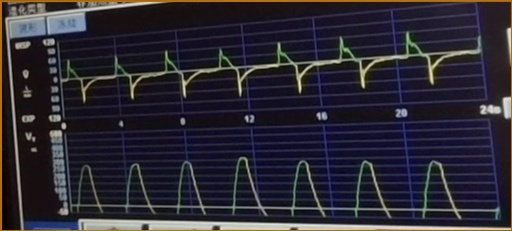Accumulation Flow: (63, 30, 473, 104)
Volume: (72, 150, 486, 223)
